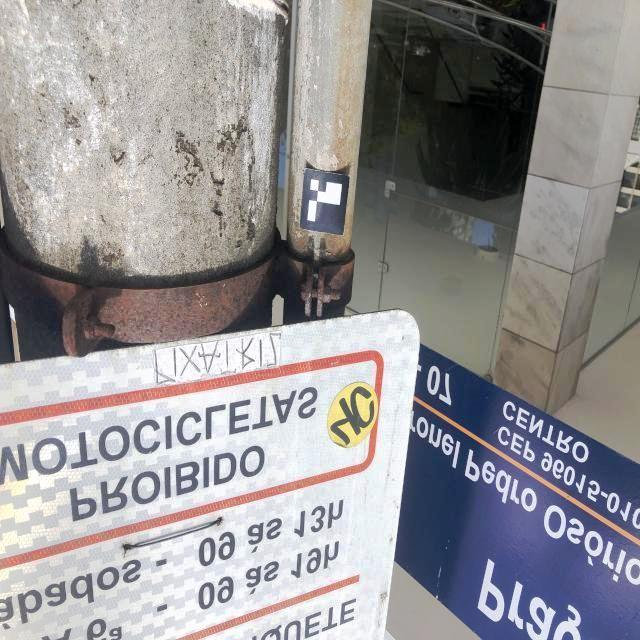Corrosion: (0, 230, 355, 357)
